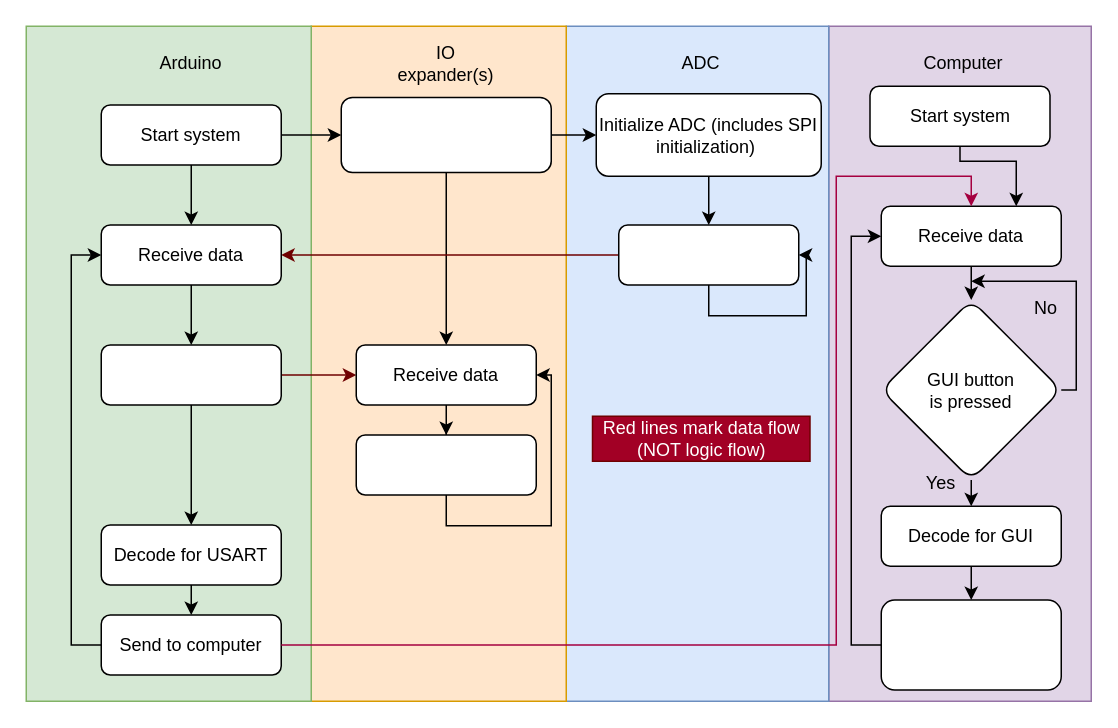
The diagram is 1118 pixels wide and 728 high, and some of its shapes have lost their labels. Here are the shapes that lost their labels. From the top down, the box of each, then its label:
(340, 96, 551, 172): Initialize IO Expander(s) (includes I2C initialization)
(617, 224, 799, 285): Send data
(100, 344, 281, 405): Send to IOE
(355, 434, 536, 495): Display
(880, 598, 1061, 690): Display value
